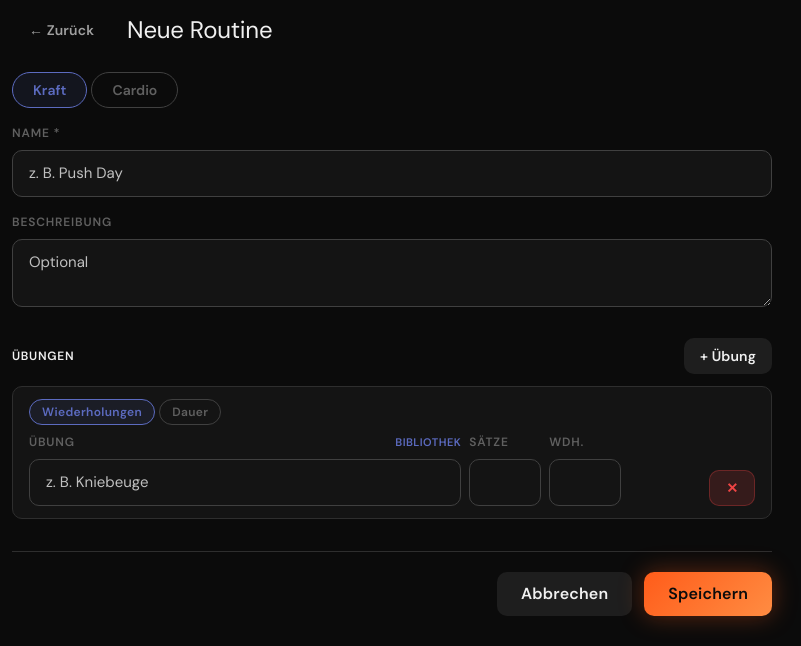
Test: RoutineForm – Cardio › wechselt in Cardio-Modus und zeigt Min.-Feld
Click the button "Cardio".
click(135, 90)  # box 91,72 -> 178,108
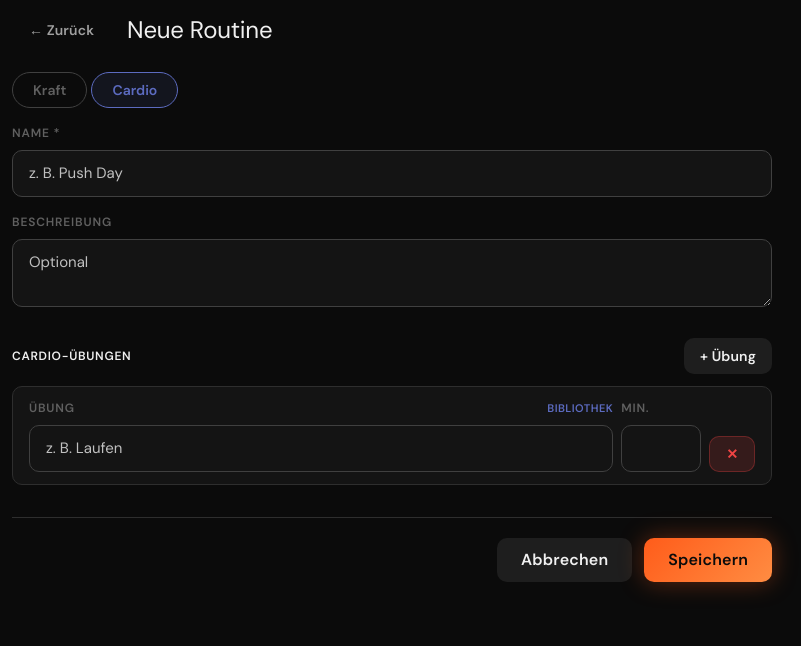
expect the number field labelled "Min." is shown: met, box 621,425 -> 701,472
expect the label labelled "Sätze" is gone: met
